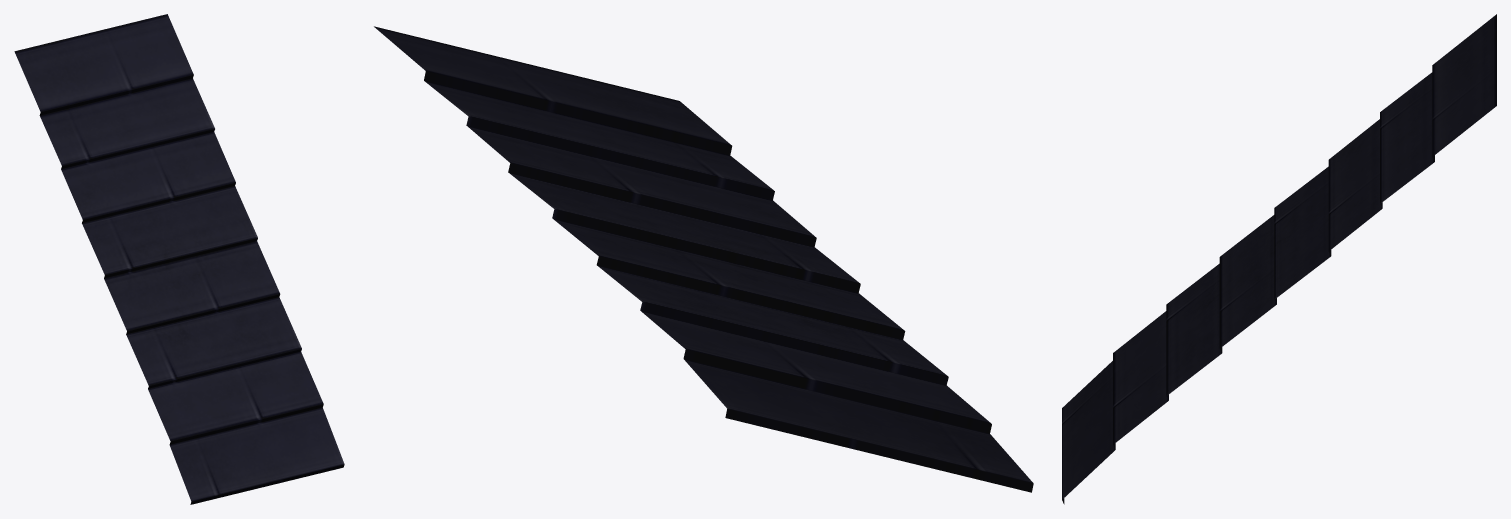
File: Roof_ONE_BY_TWO.fbx
3 views of the same model, side by side, from view 1: azimuth 30°, elevation 25°; view 2: azimuth 150°, elevation 25°; view 3: azimuth 270°, elevation 25° (orthographic). The views are drawn at different scales.
Visible parts, largest first — view 1: Roof_ONE_BY_TWO; view 2: Roof_ONE_BY_TWO; view 3: Roof_ONE_BY_TWO.
Boxes of the visible parts, <box> form: Roof_ONE_BY_TWO: <box>14,14,344,504</box>; Roof_ONE_BY_TWO: <box>374,26,1033,492</box>; Roof_ONE_BY_TWO: <box>1062,14,1496,504</box>.
Bounding box in the file's own units: 1 × 2.02 × 2.
